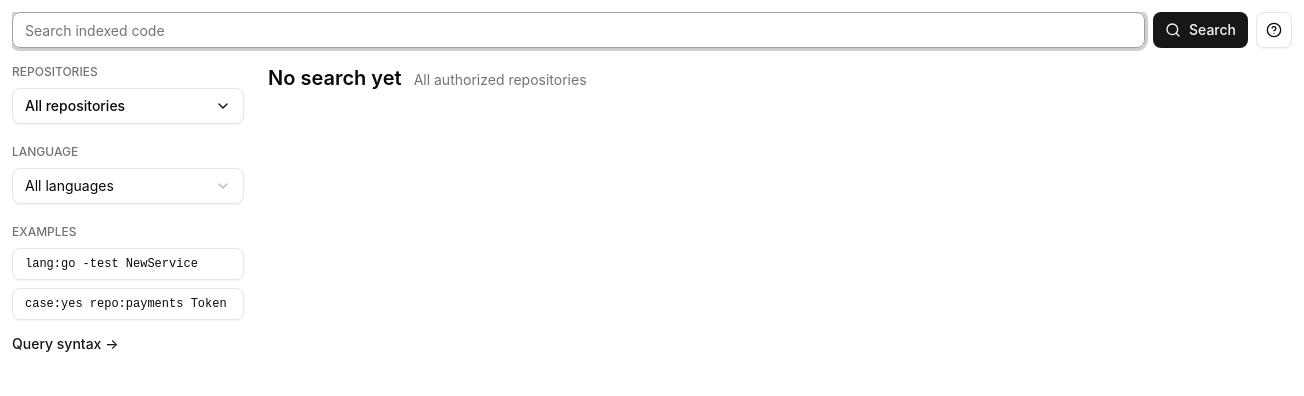
Test case: SearchPage › renders, searches and groups results by repository then file
The width and height of the screenshot is (1304, 396).
Expected: the heading "No search yet" is shown, [268,64,402,92]
Expected: the text "All authorized repositories" is shown, [414,70,586,90]
In the search field named "Search code": (578, 30) [12,12,1145,48], type "New"
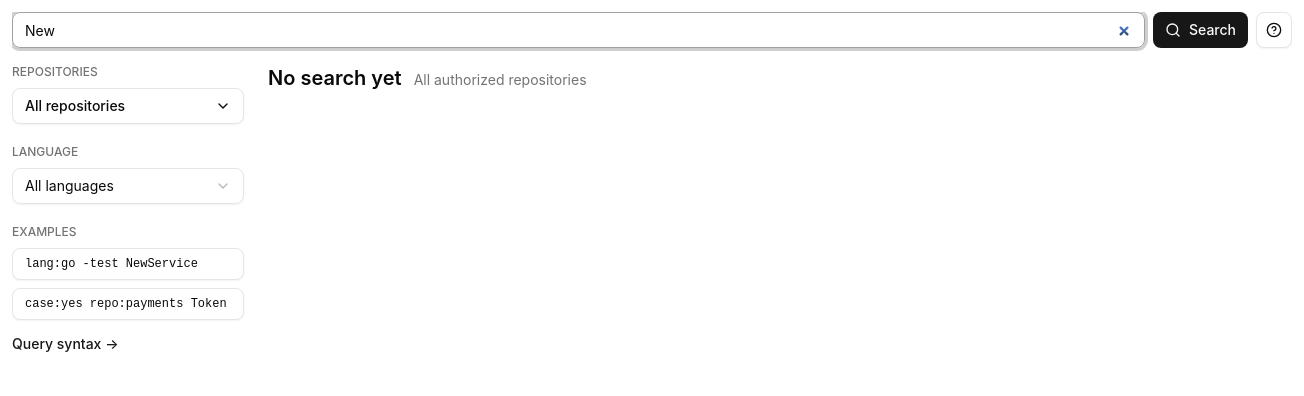
Click the button "Search": click(1200, 30) [1153,12,1248,48]
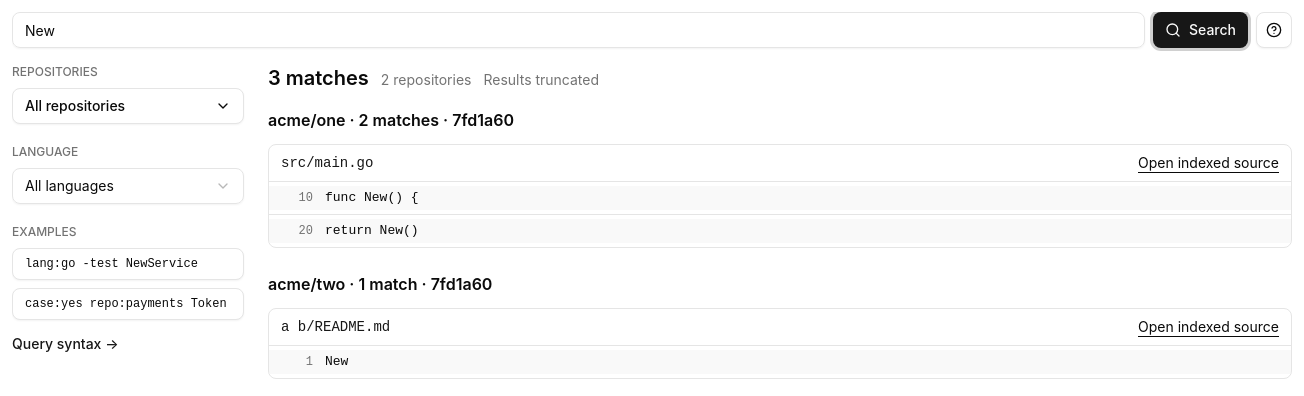
Expected: the heading "3 matches" is shown, [268,64,369,92]
Expected: the text "2 repositories" is shown, [381,70,471,90]
Expected: the heading "acme/one · 2 matches · 7fd1a60" is shown, [268,110,514,130]
